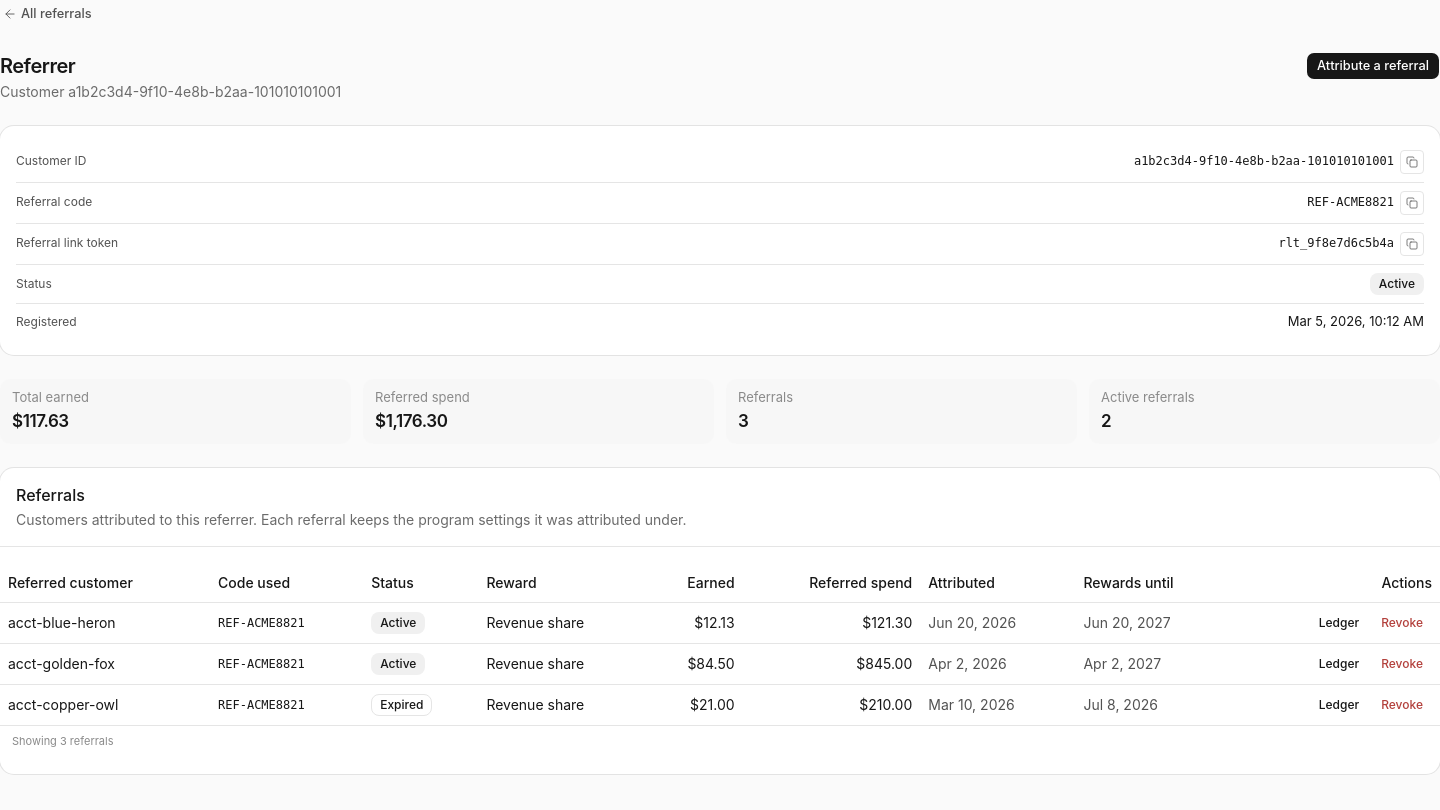
Test: ReferrerDetailPage › opens the per-referral reward ledger with each calculation method in the catalogue's words
Expected: the text "acct-golden-fox" is shown, [0, 644, 210, 685]
Rows render newest-first: rfl-0002 (acct-blue-heron), rfl-0001, rfl-0003.
Click the button "Ledger" in the row of "acct-golden-fox".
click(1339, 664)  # box [1310, 652, 1368, 676]
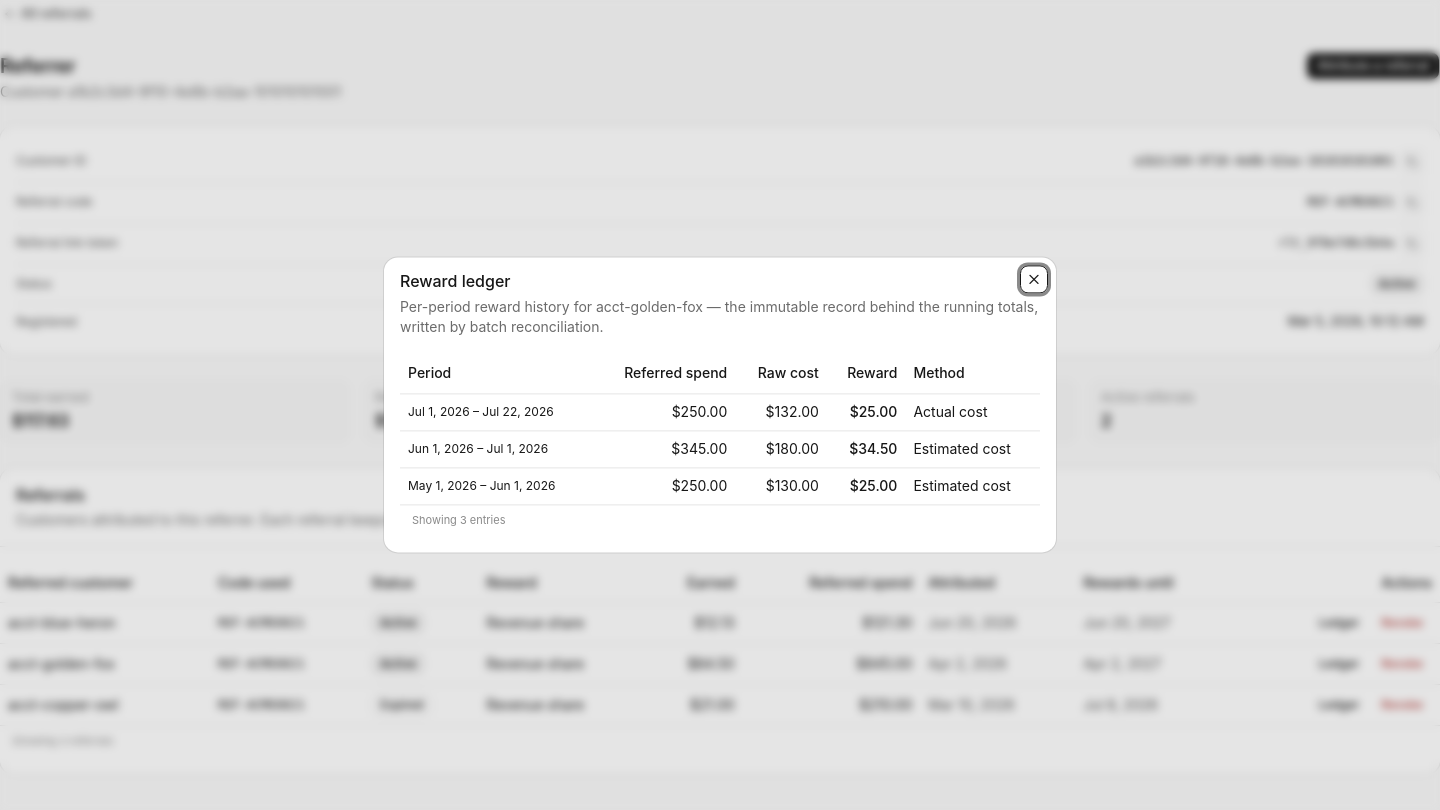
Expected: the heading "Reward ledger" is shown, [400, 271, 510, 291]
Expected: the text "Actual cost" is shown, [905, 393, 1040, 430]
Expected: the text "$34.50" is shown, [827, 430, 905, 467]
